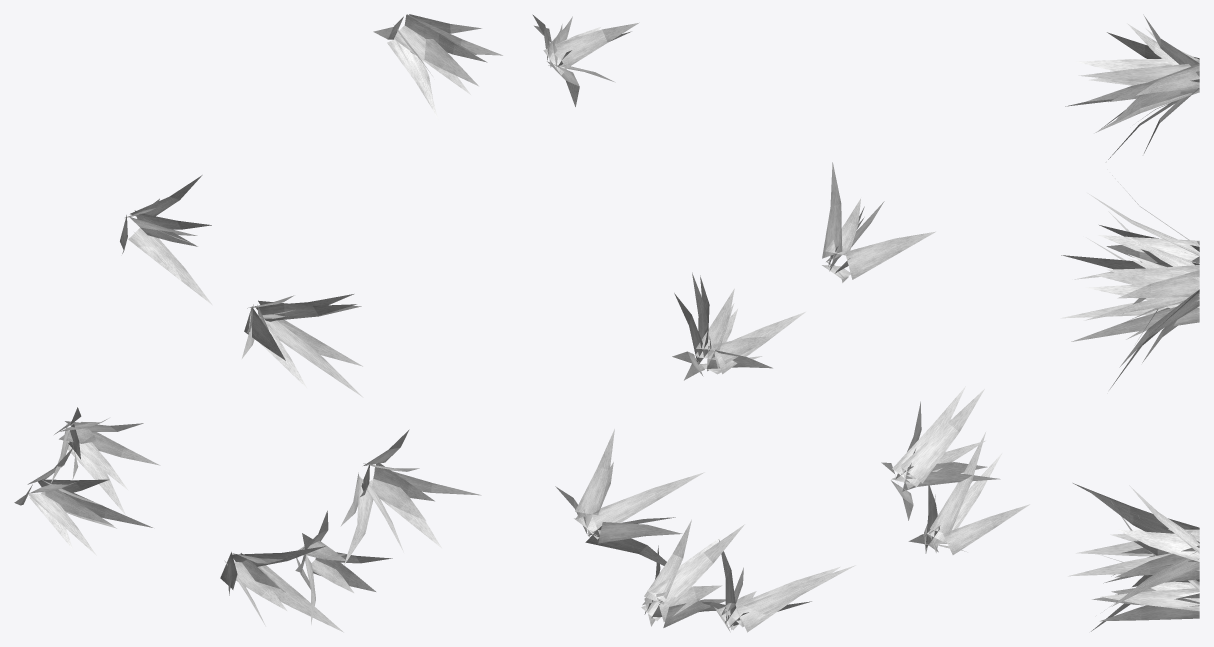
The model's file is SM_Grass_Tuft.obj.
3 views of the same model, side by side, from view 1: azimuth 30°, elevation 25°; view 2: azimuth 150°, elevation 25°; view 3: azimuth 270°, elevation 25° (orthographic). The views are drawn at different scales.
Visible parts, largest first — view 1: SM_Grass_Tuft; view 2: SM_Grass_Tuft; view 3: SM_Grass_Tuft.
Boxes of the visible parts, bbox=[...] form: SM_Grass_Tuft: bbox=[14, 14, 502, 632]; SM_Grass_Tuft: bbox=[532, 14, 1029, 632]; SM_Grass_Tuft: bbox=[1060, 14, 1199, 631].
Bounding box in the file's own units: 199 × 225 × 44.32.
3 materials, 3 textured.
